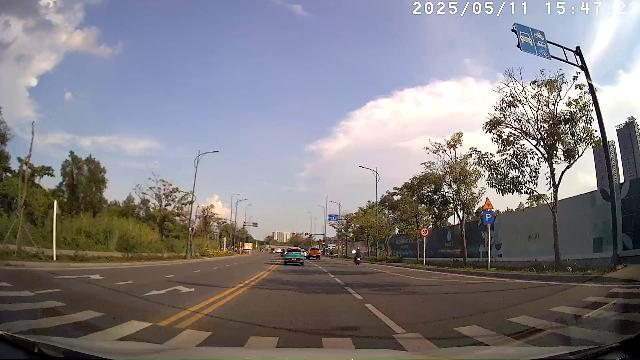127-toc-do-toi-da-50: (420, 227, 429, 237)
